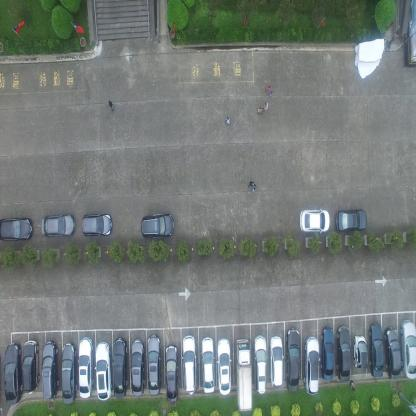car: (236, 338, 252, 413), (60, 342, 78, 404), (4, 342, 22, 404), (78, 335, 94, 399), (140, 210, 174, 240), (95, 341, 112, 401), (112, 336, 128, 399), (42, 339, 59, 398), (400, 318, 416, 380), (22, 338, 40, 393), (180, 334, 196, 394), (146, 332, 161, 395), (40, 212, 76, 238), (286, 327, 300, 393), (368, 321, 384, 378), (384, 326, 401, 379), (253, 335, 268, 395), (299, 206, 330, 235), (304, 335, 319, 394), (336, 323, 351, 382), (130, 338, 145, 397), (0, 215, 34, 241), (216, 338, 231, 396), (199, 336, 214, 394), (80, 211, 113, 237), (164, 344, 178, 402), (320, 326, 335, 380), (270, 334, 284, 389), (334, 208, 366, 232), (353, 332, 368, 369)
